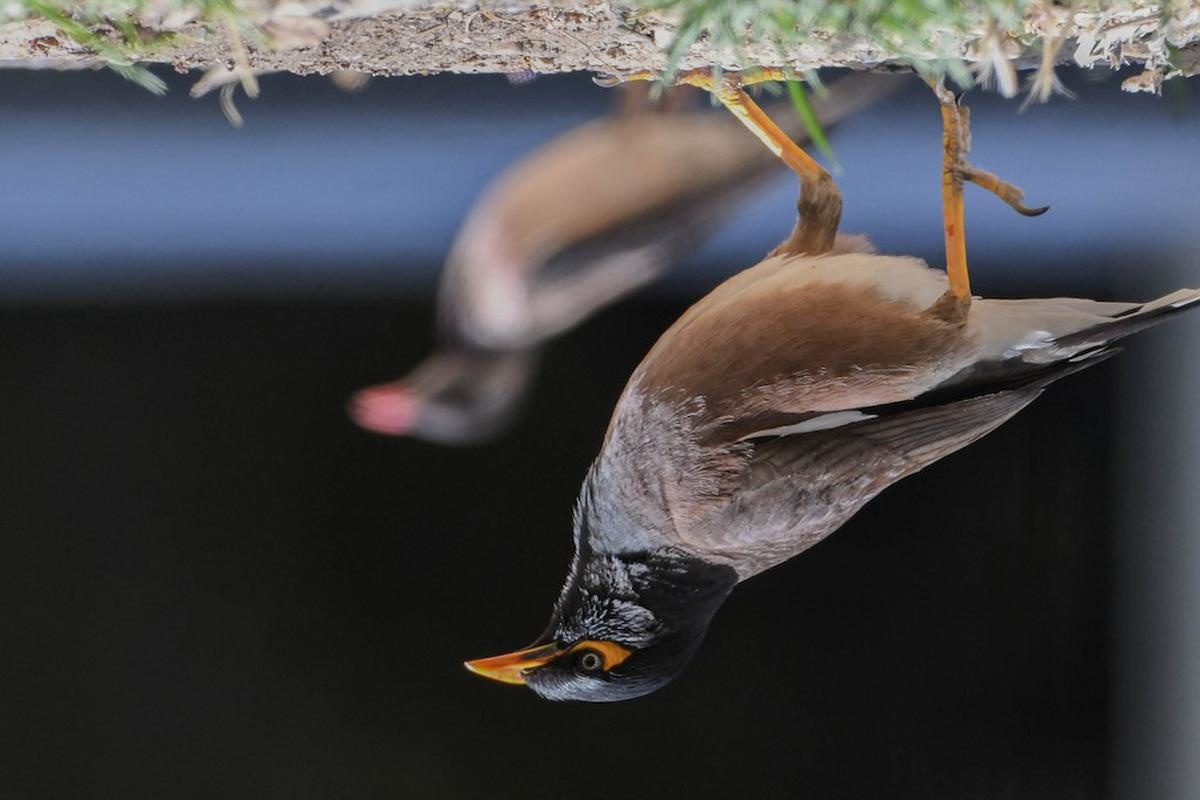myna: (454, 100, 1120, 717)
